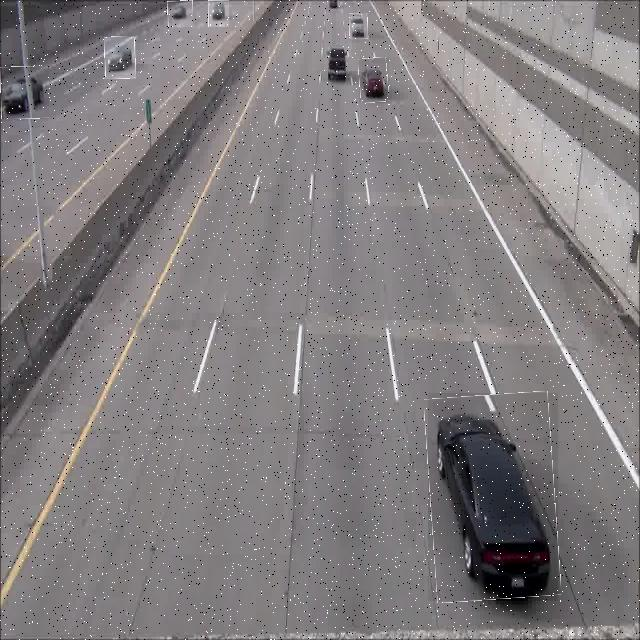Car: (428, 393, 558, 601), (0, 66, 49, 119), (359, 58, 389, 103), (104, 37, 136, 79), (167, 0, 193, 27), (208, 0, 229, 27), (350, 13, 368, 39)
